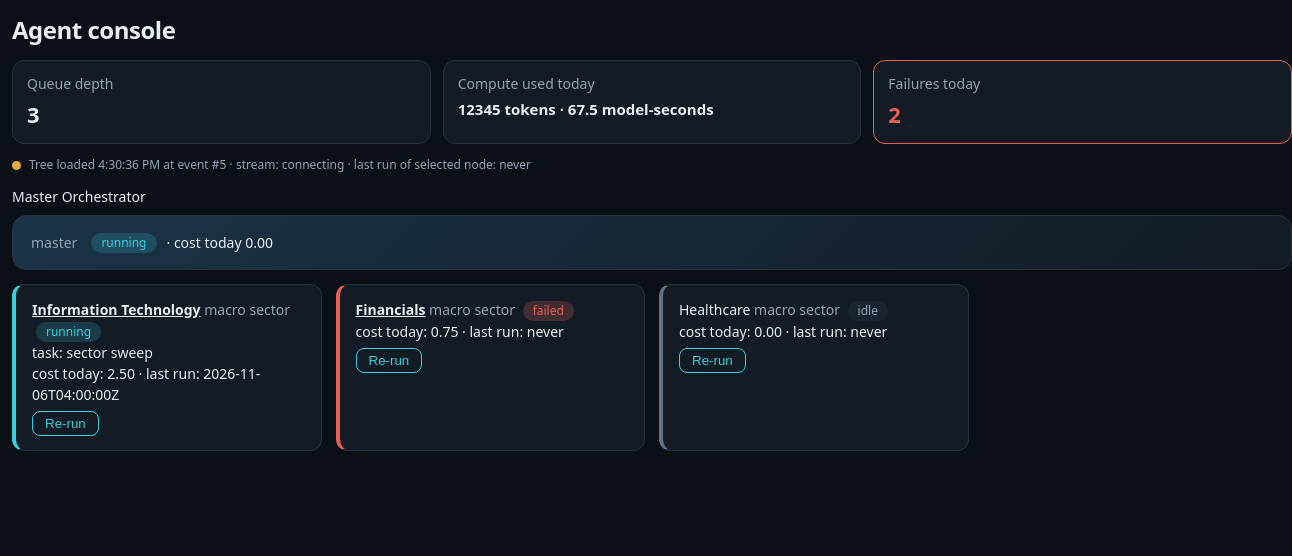
Test: agent console › re-run button posts and reports 200, 409 and 404 visibly
Click the button with aria-label "re-run Information Technology" at (65, 424), box left=32, top=411, right=99, bottom=436
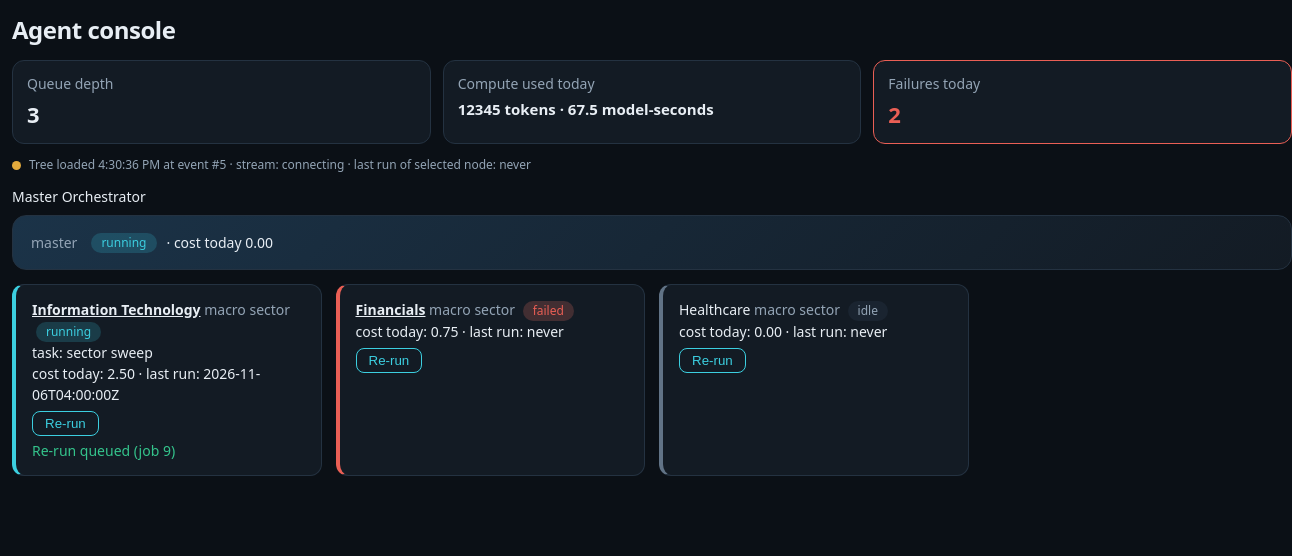
Check: the message reads "Re-run queued (job 9)", box left=32, top=441, right=175, bottom=460
Click the button with aria-label "re-run Information Technology" at (65, 424), box left=32, top=411, right=99, bottom=436
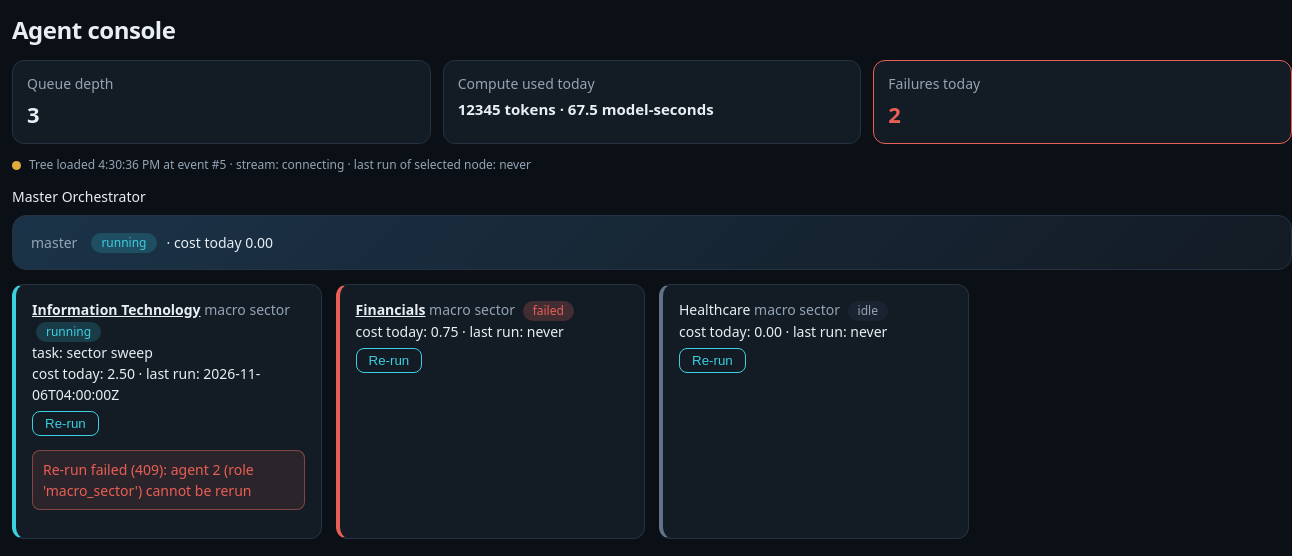
Check: the text "Re-run failed (409): agent 2 (role 'macro_sector') cannot be rerun" is shown, box left=32, top=450, right=304, bottom=510
Click the button with aria-label "re-run Information Technology" at (65, 424), box left=32, top=411, right=99, bottom=436
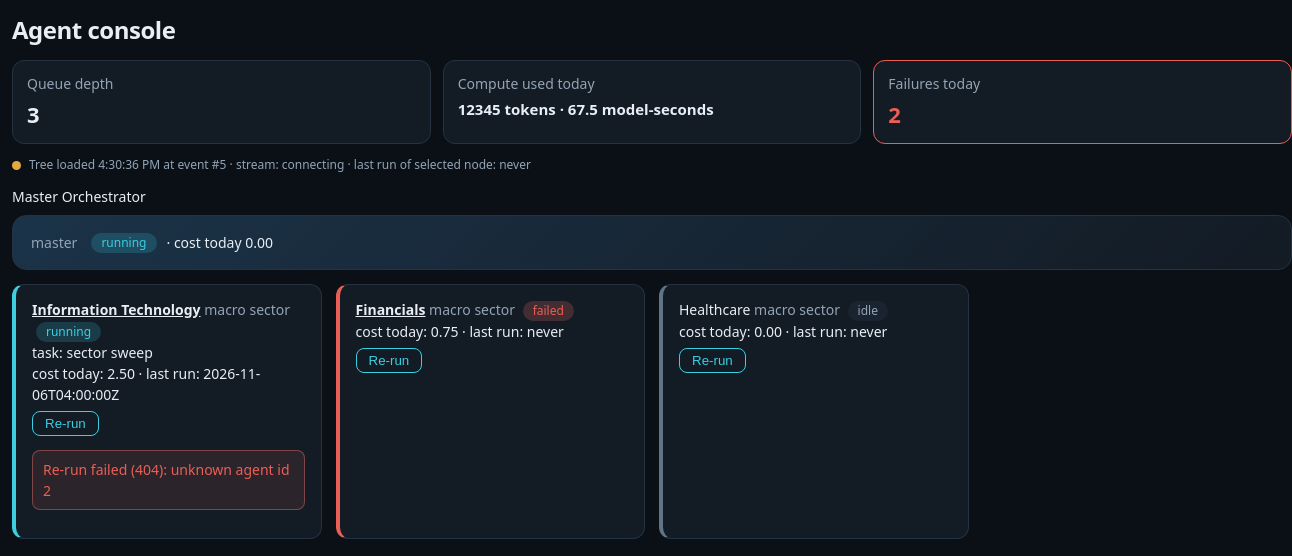
Check: the text "Re-run failed (404): unknown agent id 2" is shown, box left=32, top=450, right=304, bottom=510
